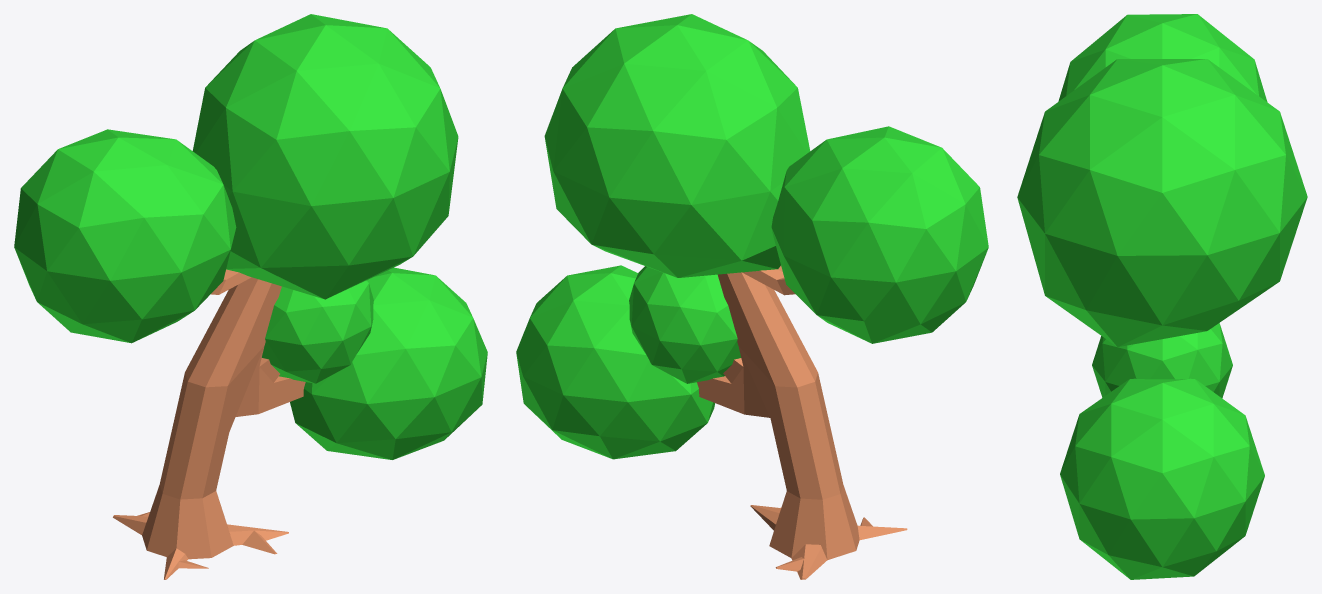
File: tree_6.fbx
The picture shows the model from 3 angles, left to right: view 1: azimuth 30°, elevation 25°; view 2: azimuth 150°, elevation 25°; view 3: azimuth 270°, elevation 25°; orthographic projection. The views are drawn at different scales.
Visible parts, largest first — view 1: Cylinder.002; view 2: Cylinder.002; view 3: Cylinder.002.
Part boxes in pixels (box(x1,y1,x2,y2)): Cylinder.002: box(14, 14, 487, 579); Cylinder.002: box(516, 14, 988, 579); Cylinder.002: box(1017, 14, 1307, 579).
Bounding box in the file's own units: 1746 × 927 × 1818.
